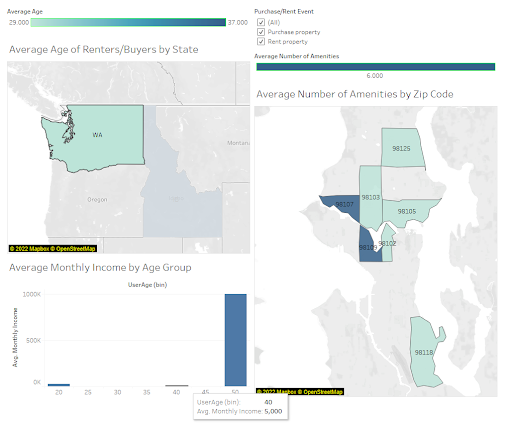

Layout of this report page (visuals, bound fields, positions):
{"tool":"tableau","page":{"name":"Amentities and Income by Age and Geography","canvas":[1000,800],"ordinal":0},"visuals":[{"type":"legend","title":"Average Age of Renters/Buyers by State","param":"[federated.0io1pn01axl5lf18k7qi51slx2se].[usr:Calculation_755478846059814912:qk]","box":[8,8,492,65]},{"type":"filter","title":"Average Age of Renters/Buyers by State","param":"[federated.0io1pn01axl5lf18k7qi51slx2se].[none:Calculation_1086211944790011904:n","box":[500,8,492,89]},{"type":"worksheet","title":"Average Age of Renters/Buyers by State","mark":"Multipolygon","box":[8,73,492,434]},{"type":"legend","title":"Average Number of Amenities by Zip Code","param":"[federated.0io1pn01axl5lf18k7qi51slx2se].[usr:Calculation_755478846069432321:qk]","box":[500,97,492,65]},{"type":"worksheet","title":"Average Number of Amenities by Zip Code","mark":"Automatic","box":[500,162,492,630]},{"type":"worksheet","title":"Average Monthly Income by Age Group","mark":"Automatic","rows":["MonthlyIncome"],"cols":["UserAge (bin)"],"box":[8,507,492,285]}]}

Visuals, with their boxes on the page's 1000x800 design canvas (x1, y1, x2, y2). These are canvas units, not pixel positions in the 512x424 screenshot, which may show the page scaled, cropped or inside an application window:
"Average Age of Renters/Buyers by State" legend: 8/8/500/73
"Average Age of Renters/Buyers by State" filter: 500/8/992/97
"Average Age of Renters/Buyers by State" worksheet (Multipolygon marks): 8/73/500/507
"Average Number of Amenities by Zip Code" legend: 500/97/992/162
"Average Number of Amenities by Zip Code" worksheet: 500/162/992/792
"Average Monthly Income by Age Group" worksheet: 8/507/500/792
